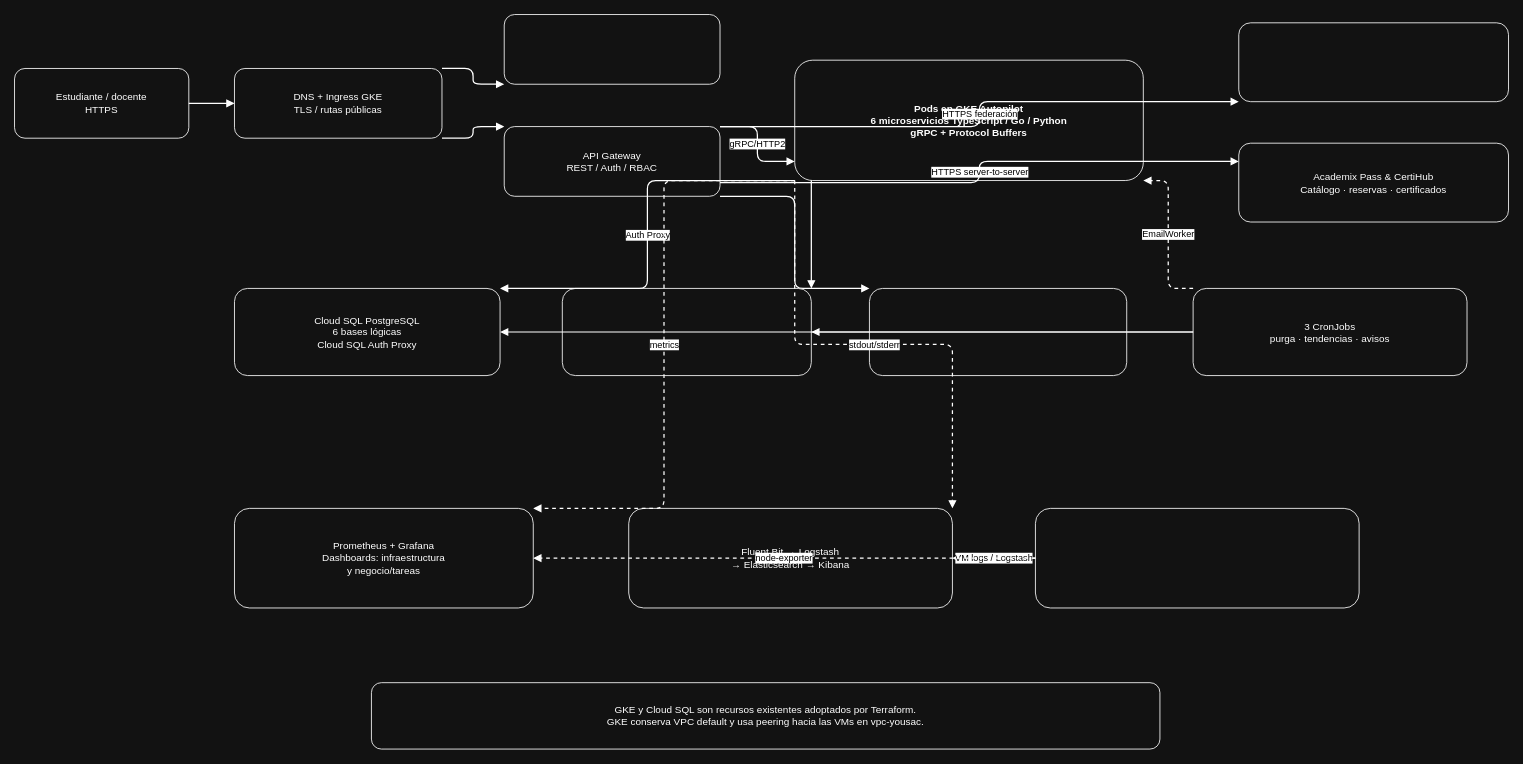
Image size: 1523x764. Some labels were removed from this diagram. Each missing label, with the centre of its shape:
"Catálogo federado API del grupo G8 X-API-Key" belongs at point 1373,62.
"Cloud Storage Videos y materiales Workload Identity" belongs at point 998,332.
"Frontend Web React + TypeScript" belongs at point 611,49.
"Redis en VM preexistente yousac-vm-nube · 10.128.0.3:6379 cache analítica" belongs at point 686,332.
"VPC vpc-yousac 10.20.0.0/16 · 3 subredes VM dev + VM observabilidad" belongs at point 1197,558.
